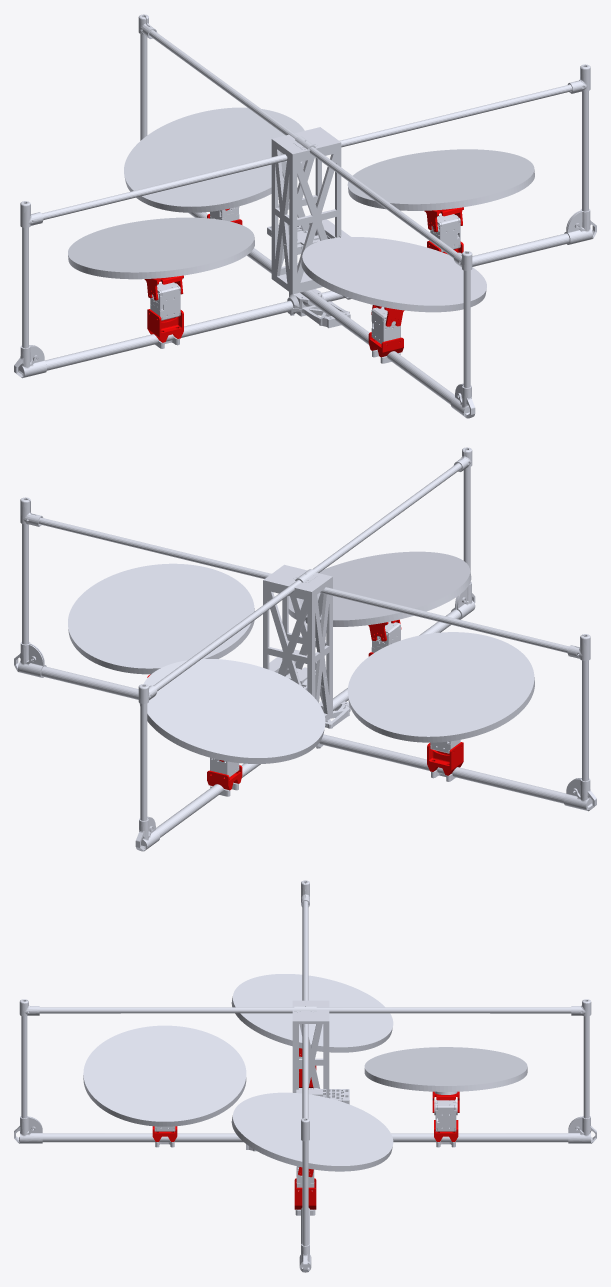
The model's file is palletrone.dae.
3 renders of one model, top to bottom at view 1: azimuth 30°, elevation 25°; view 2: azimuth 150°, elevation 25°; view 3: azimuth 270°, elevation 25°, orthographic. The views are drawn at different scales.
Visible parts, largest first — view 1: imagetostl_mesh11, imagetostl_mesh8, imagetostl_mesh15, imagetostl_mesh2, imagetostl_mesh3, imagetostl_mesh10, imagetostl_mesh6, imagetostl_mesh16, imagetostl_mesh7, imagetostl_mesh9, imagetostl_mesh0, imagetostl_mesh13 (+3 smaller); view 2: imagetostl_mesh11, imagetostl_mesh8, imagetostl_mesh7, imagetostl_mesh15, imagetostl_mesh10, imagetostl_mesh2, imagetostl_mesh16, imagetostl_mesh6, imagetostl_mesh0, imagetostl_mesh9, imagetostl_mesh1, imagetostl_mesh13 (+1 smaller); view 3: imagetostl_mesh11, imagetostl_mesh15, imagetostl_mesh2, imagetostl_mesh8, imagetostl_mesh6, imagetostl_mesh16, imagetostl_mesh10, imagetostl_mesh7, imagetostl_mesh0, imagetostl_mesh14.
Boxes of the visible parts, x1,y1,x2,y2 form: imagetostl_mesh11: (21,15,584,404); imagetostl_mesh8: (28,14,583,404); imagetostl_mesh15: (20,127,590,406); imagetostl_mesh2: (20,14,590,397); imagetostl_mesh3: (14,30,587,417); imagetostl_mesh10: (16,14,592,416); imagetostl_mesh6: (22,34,596,414); imagetostl_mesh16: (144,207,463,357); imagetostl_mesh7: (14,18,593,418); imagetostl_mesh9: (17,32,596,418); imagetostl_mesh0: (18,25,596,417); imagetostl_mesh13: (14,15,594,408); imagetostl_mesh11: (17,448,590,851); imagetostl_mesh8: (23,447,579,837); imagetostl_mesh7: (18,451,596,849); imagetostl_mesh15: (20,462,590,839); imagetostl_mesh10: (14,447,590,847); imagetostl_mesh2: (22,447,589,829); imagetostl_mesh16: (147,619,463,790); imagetostl_mesh6: (16,467,594,806); imagetostl_mesh0: (16,458,593,849); imagetostl_mesh9: (24,463,594,851); imagetostl_mesh1: (27,451,589,833); imagetostl_mesh13: (14,448,596,850); imagetostl_mesh11: (18,901,583,1262); imagetostl_mesh15: (20,1000,590,1261); imagetostl_mesh2: (20,880,590,1215); imagetostl_mesh8: (20,891,590,1253); imagetostl_mesh6: (16,904,596,1245); imagetostl_mesh16: (152,1048,459,1209); imagetostl_mesh10: (14,894,591,1270); imagetostl_mesh7: (19,884,592,1270); imagetostl_mesh0: (16,880,596,1270); imagetostl_mesh14: (27,894,585,1144).
Bounding box in the file's own units: 954 × 954 × 278.
